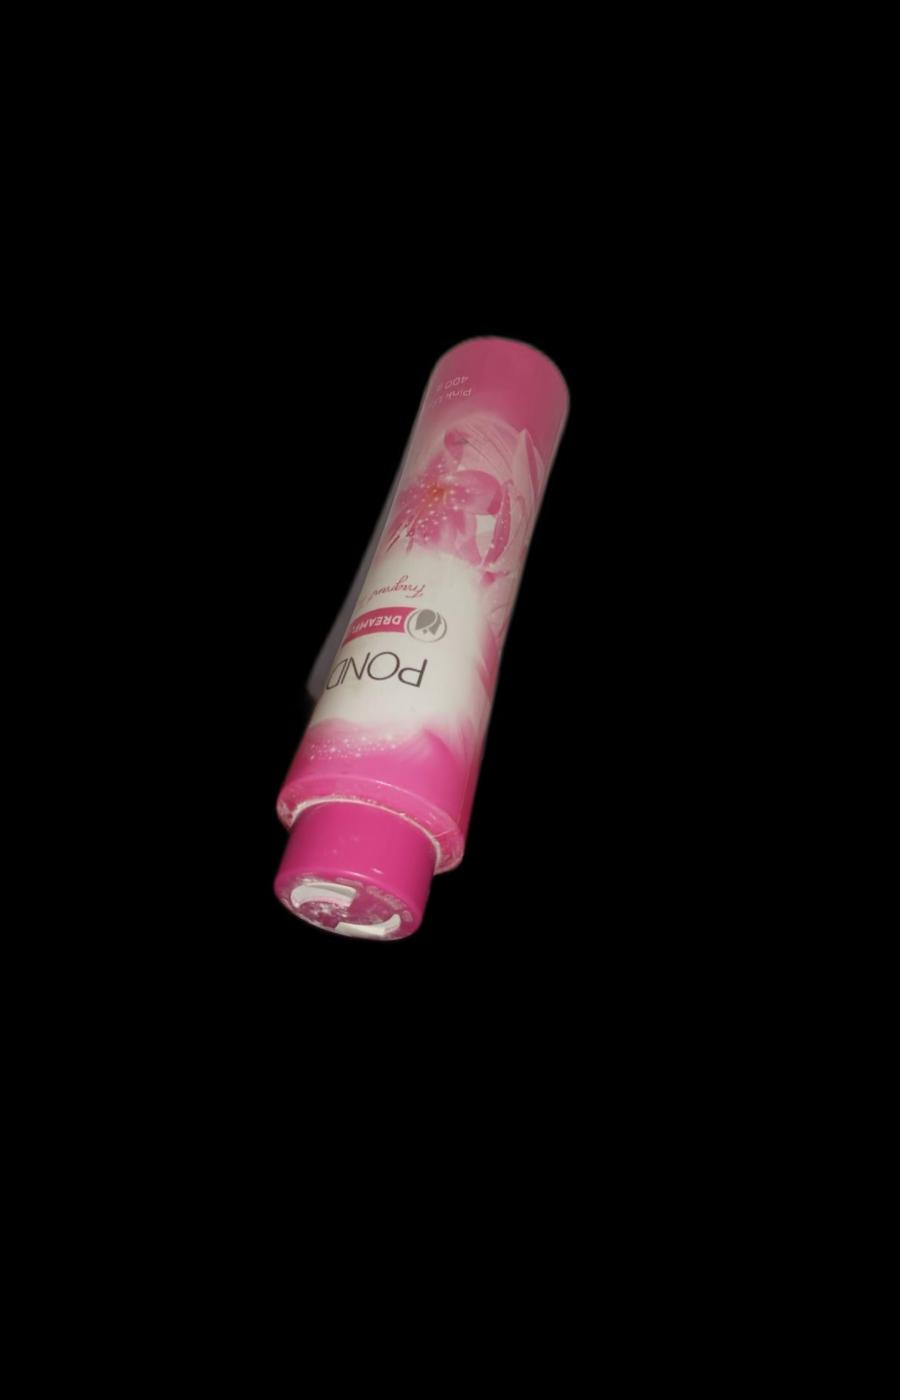Pond-s Dreamflower Pink Lily Fragrant Talc 400 g: (249, 310, 576, 961)
